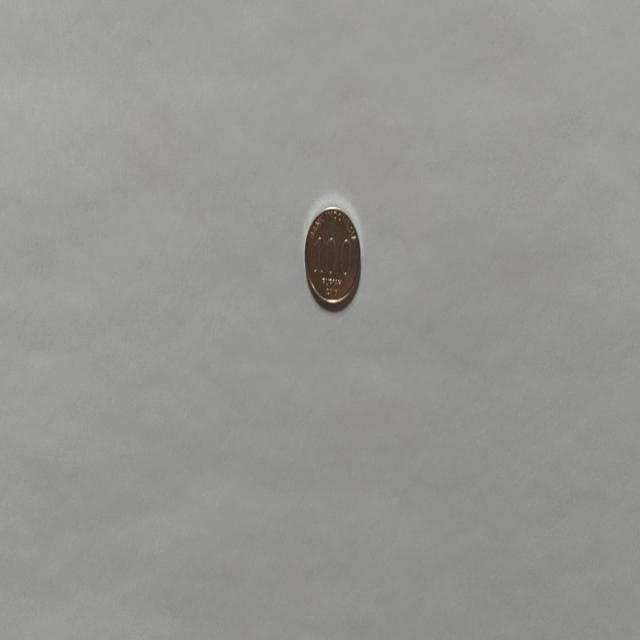seratus rupiah: (303, 204, 361, 312)
